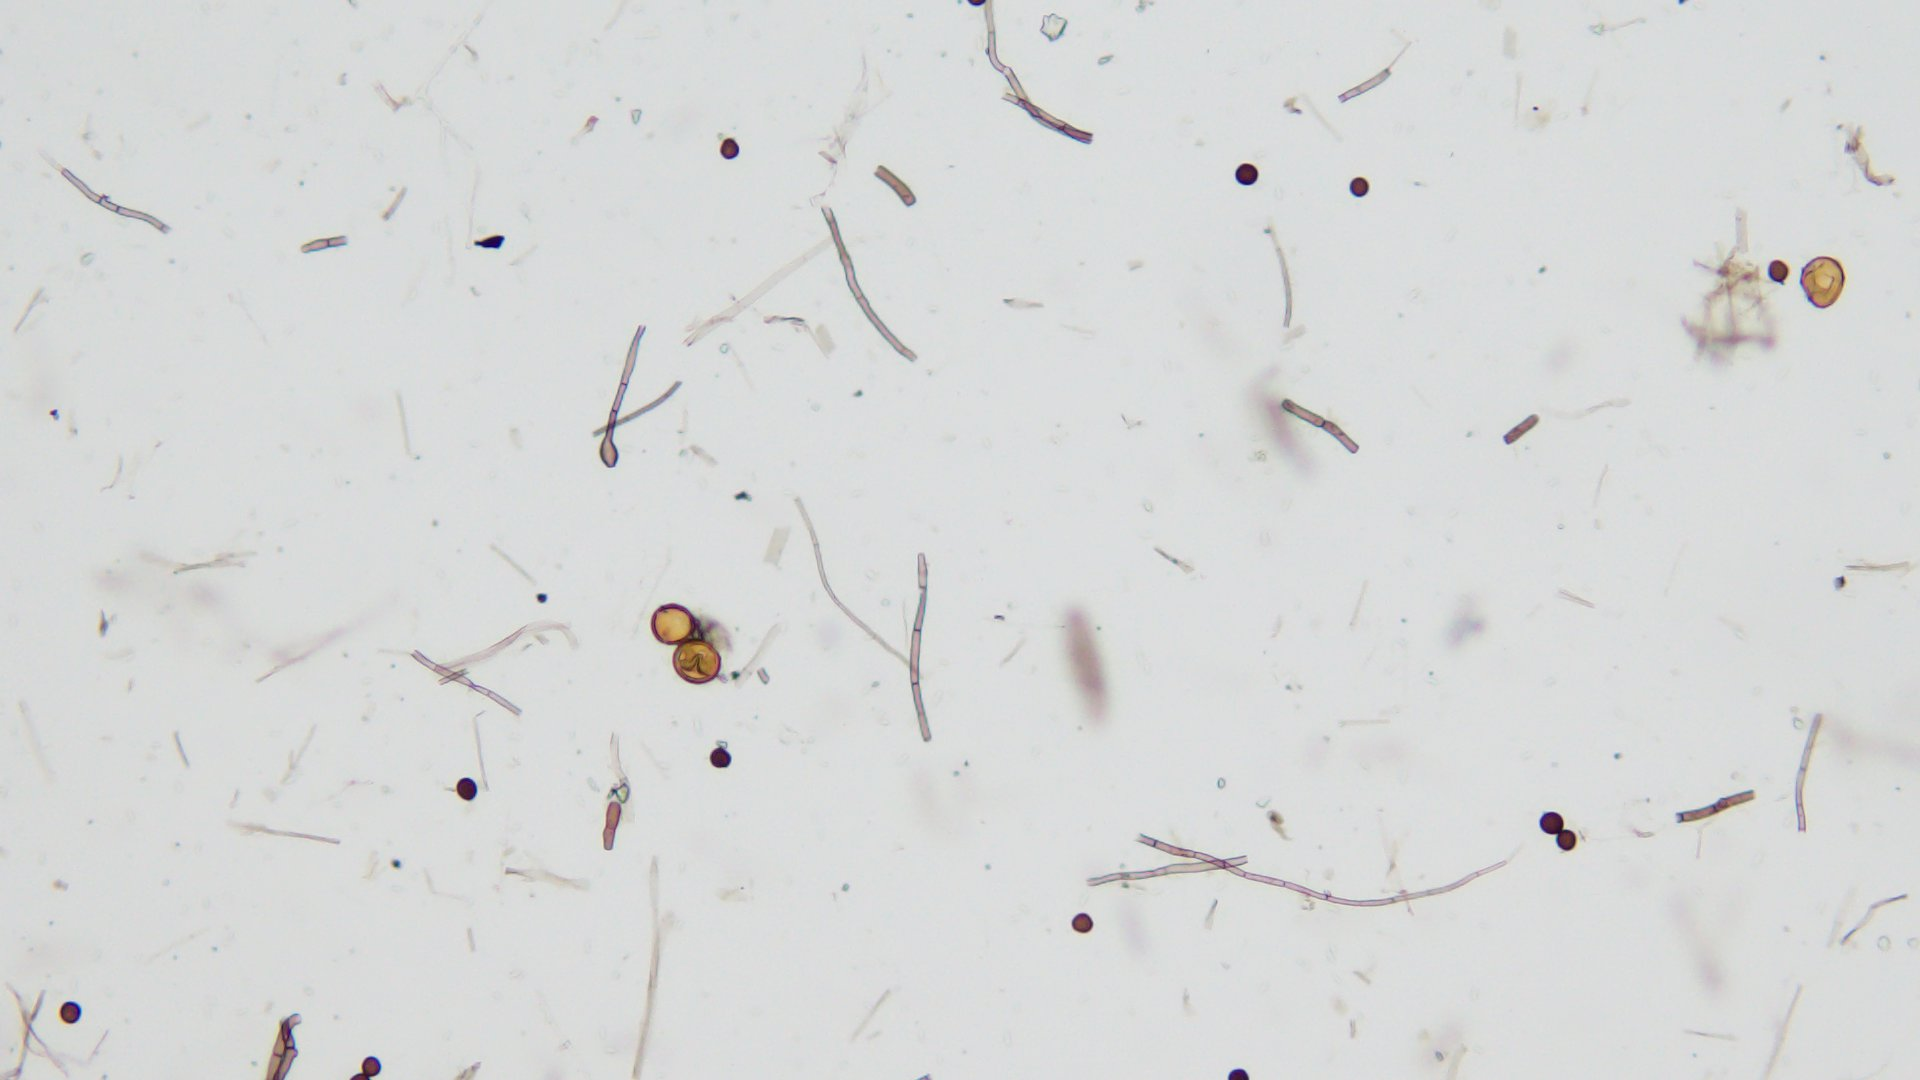shs_spore: (1232, 164, 1261, 186), (1539, 808, 1564, 833), (454, 778, 479, 802), (1768, 258, 1791, 284), (719, 138, 742, 161), (359, 1056, 382, 1077), (1071, 913, 1093, 934), (709, 746, 732, 767), (1556, 827, 1576, 851), (61, 1004, 82, 1025), (1346, 179, 1364, 199)
xb_spore: (1800, 257, 1844, 313), (649, 603, 696, 645), (673, 640, 720, 682)
